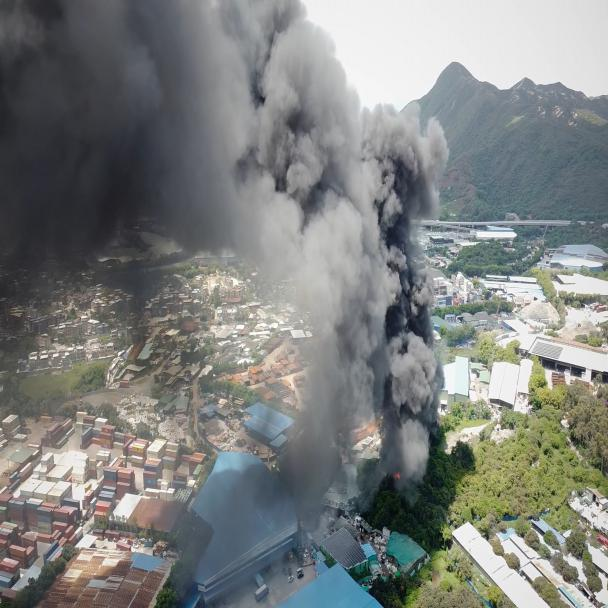smoke: (9, 0, 452, 477)
